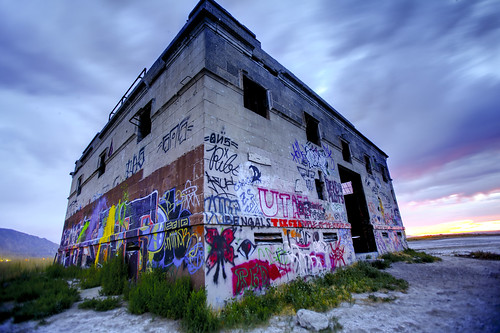building: (54, 1, 411, 298)
graffiti: (207, 116, 345, 292), (54, 122, 203, 284)
sky: (1, 1, 500, 232)
